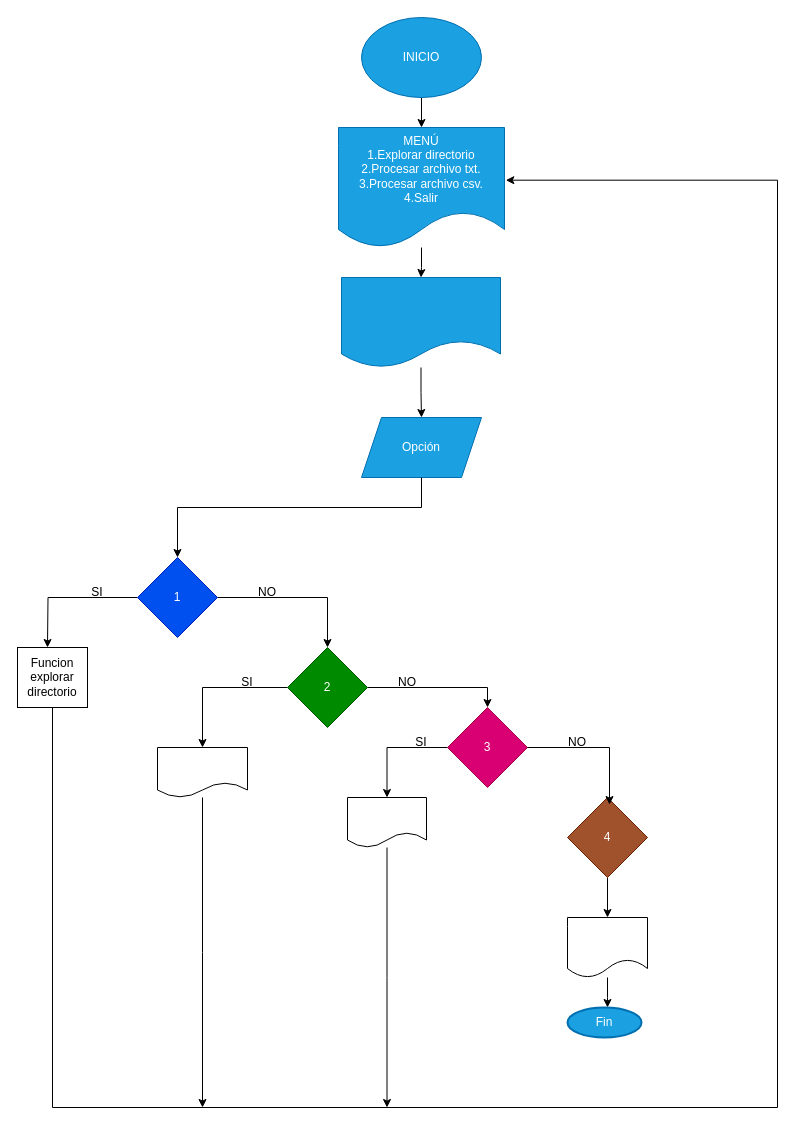
The diagram is 803 pixels wide and 1133 high, and some of its shapes have lost their labels. Each missing label, with the box of its shape:
Saliendo del sistema: (566, 916, 648, 978)
SUBMENÚ 1: (156, 746, 248, 798)
SUBMENÚ 2: (346, 796, 426, 848)
¿Qué opción deseas elegir?: (340, 276, 500, 368)
